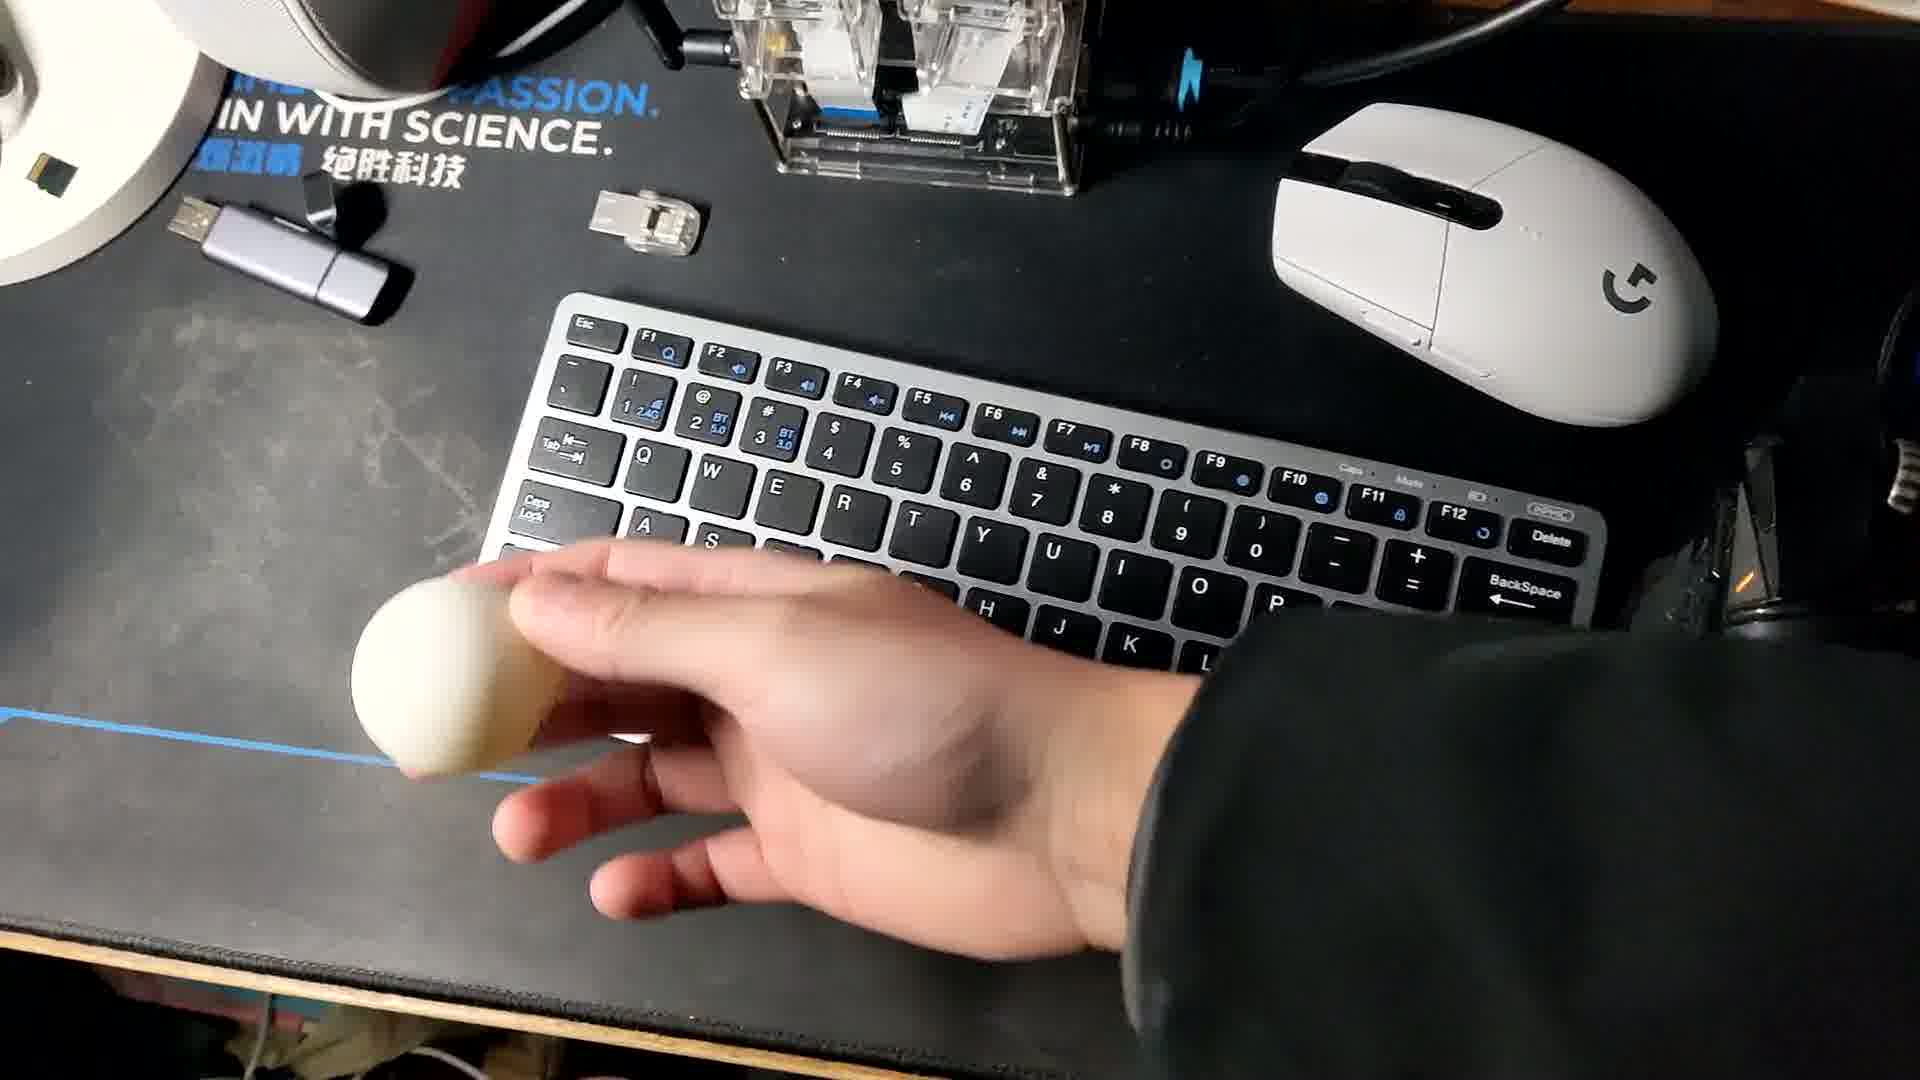Ball: (347, 579, 560, 775)
